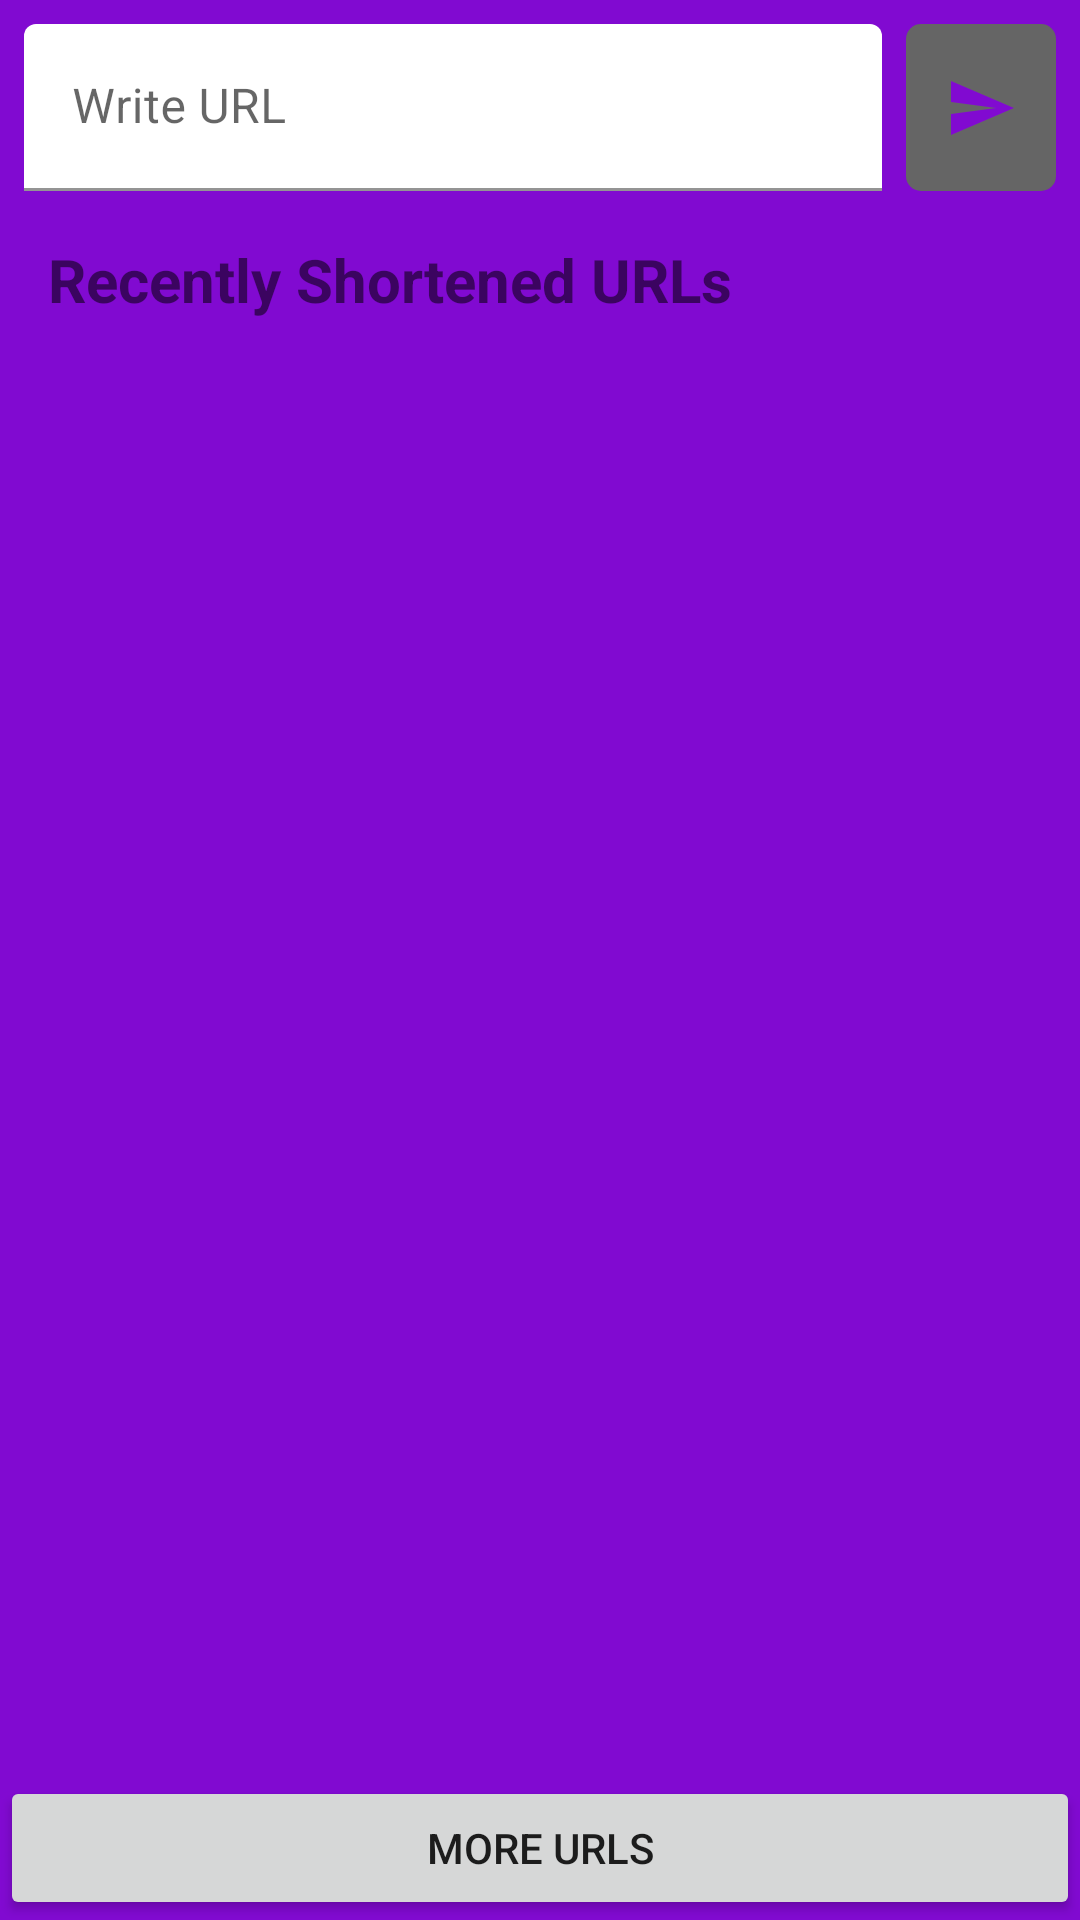

Icon bounding boxes for this 1080x1920 phone screenshot, format (x1=x1, y1=y1, x2=x2, y2=y2):
send: (x1=906, y1=24, x2=1056, y2=191)
